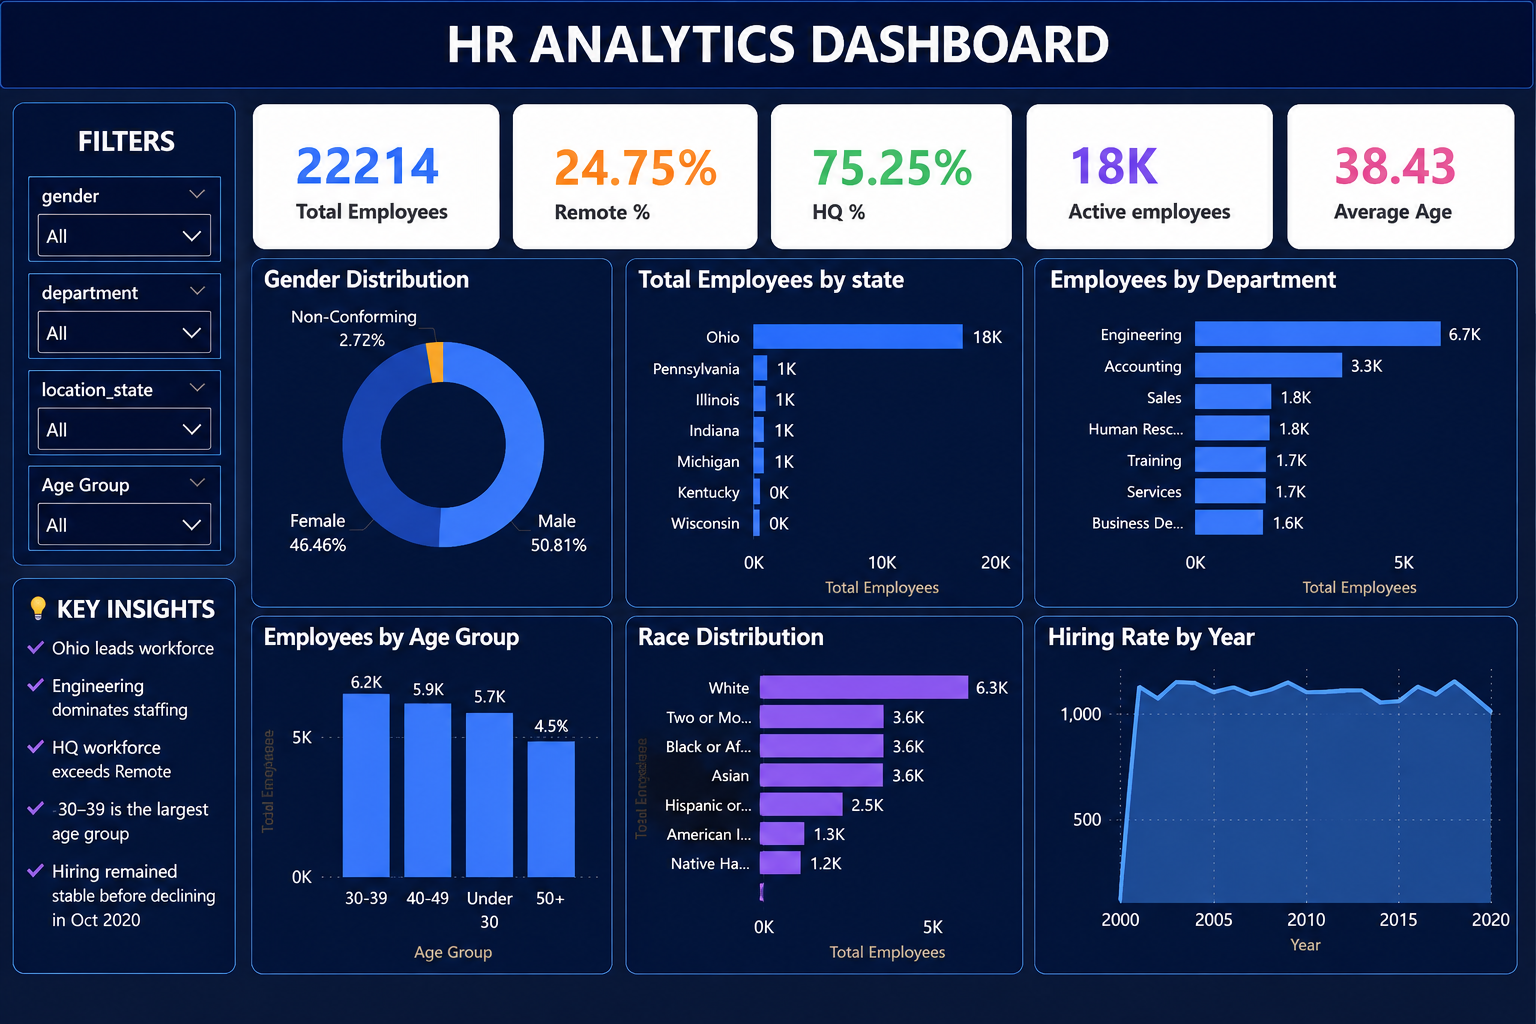

Layout of this report page (visuals, bound fields, positions):
{"tool":"powerbi","page":{"name":"Page 1","canvas":[1280,720],"ordinal":0},"visuals":[{"type":"textbox","box":[0,0,1279.7,71],"z":0},{"type":"cardVisual","title":"Total Employees","fields":{"Data":["HR_Analytics.Total Employees"]},"box":[199.2,82,214.2,117.2],"z":1000},{"type":"cardVisual","title":"Total Employees","fields":{"Data":["HR_Analytics.Active employees"]},"box":[840.6,82,207.5,117.2],"z":2000},{"type":"cardVisual","title":"Total Employees","fields":{"Data":["HR_Analytics.Average Age"]},"box":[1059.4,82,205.9,117.2],"z":3000},{"type":"donutChart","title":"Gender Distribution","fields":{"Category":["HR_Analytics.gender"],"Y":["HR_Analytics.Total Employees"]},"box":[198.2,206.6,296.5,255.8],"z":4000},{"type":"clusteredBarChart","title":"Race Distribution","fields":{"Category":["HR_Analytics.race"],"Y":["HR_Analytics.Total Employees"]},"box":[508.4,472.2,334.5,237.5],"z":5000},{"type":"clusteredBarChart","title":"Employees by Department","fields":{"Category":["HR_Analytics.department"],"Y":["HR_Analytics.Total Employees"]},"box":[855.9,205.2,409,257.2],"z":6000},{"type":"columnChart","title":"Employees by Age Group","fields":{"Category":["HR_Analytics.Age Group"],"Y":["HR_Analytics.Total Employees"]},"box":[198.2,472.2,296.5,237.5],"z":7000},{"type":"barChart","title":"Total Employees by state","fields":{"Category":["HR_Analytics.location_state"],"Y":["HR_Analytics.Total Employees"]},"box":[508,205.2,334.5,257.2],"z":8000},{"type":"textbox","box":[9.8,81.5,172.9,358.4],"z":9000},{"type":"slicer","fields":{"Values":["HR_Analytics.gender"]},"box":[23.3,141.7,146.7,63.3],"z":10000},{"type":"slicer","fields":{"Values":["HR_Analytics.department"]},"box":[23.9,215,146.2,67.5],"z":11000},{"type":"slicer","fields":{"Values":["HR_Analytics.location_state"]},"box":[23.9,292.3,146.2,61.8],"z":12000},{"type":"slicer","fields":{"Values":["HR_Analytics.Age Group"]},"box":[23.9,359.8,146.2,66.1],"z":13000},{"type":"cardVisual","title":"Total Employees","fields":{"Data":["HR_Analytics.Remote %"]},"box":[424.7,82,202.5,117.2],"z":14000},{"type":"cardVisual","title":"Total Employees","fields":{"Data":["HR_Analytics.HQ %"]},"box":[638.5,82,190.8,117.2],"z":15000},{"type":"textbox","title":"💡KEY INSIGHTS","box":[9.8,448.3,172.9,261.4],"z":17000},{"type":"textbox","box":[22.5,91.3,150.4,49.2],"z":18000},{"type":"areaChart","title":"Hiring Rate by Year","fields":{"Category":["HR_Analytics.hire_date.Variation.Date Hierarchy.Year","HR_Analytics.hire_date.Variation.Date Hierarchy.Quarter","HR_Analytics.hire_date.Variation.Date Hierarchy.Month","HR_Analytics.hire_date.Variation.Date Hierarchy.Day"],"Y":["CountNonNull(HR_Analytics.id)"]},"box":[856.7,471.7,408.3,238.3],"z":18001}]}

Visuals, with their boxes on the page's 1280x720 design canvas (x1, y1, x2, y2). These are canvas units, not pixel positions in the 1536x1024 screenshot, which may show the page scaled, cropped or inside an application window:
textbox: 0, 0, 1280, 71
"Total Employees" cardVisual: 199, 82, 413, 199
"Total Employees" cardVisual: 841, 82, 1048, 199
"Total Employees" cardVisual: 1059, 82, 1265, 199
"Gender Distribution" donutChart: 198, 207, 495, 462
"Race Distribution" clusteredBarChart: 508, 472, 843, 710
"Employees by Department" clusteredBarChart: 856, 205, 1265, 462
"Employees by Age Group" columnChart: 198, 472, 495, 710
"Total Employees by state" barChart: 508, 205, 842, 462
textbox: 10, 82, 183, 440
slicer - HR_Analytics.gender: 23, 142, 170, 205
slicer - HR_Analytics.department: 24, 215, 170, 282
slicer - HR_Analytics.location_state: 24, 292, 170, 354
slicer - HR_Analytics.Age Group: 24, 360, 170, 426
"Total Employees" cardVisual: 425, 82, 627, 199
"Total Employees" cardVisual: 638, 82, 829, 199
"💡KEY INSIGHTS" textbox: 10, 448, 183, 710
textbox: 22, 91, 173, 140
"Hiring Rate by Year" areaChart: 857, 472, 1265, 710
